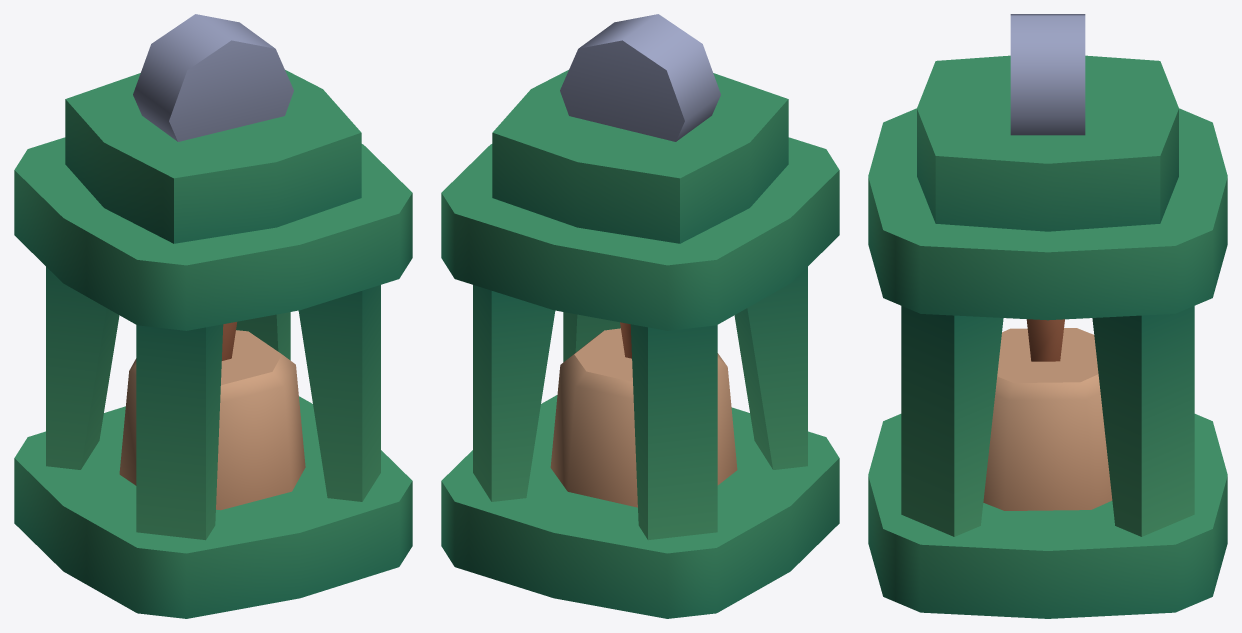
Rendered from K_lantern-candle.glb.
3 renders of one model, left to right at view 1: azimuth 30°, elevation 25°; view 2: azimuth 150°, elevation 25°; view 3: azimuth 270°, elevation 25°, orthographic. The views are drawn at different scales.
Parts seen in each view (by area): view 1: lantern-candle; view 2: lantern-candle; view 3: lantern-candle.
Boxes of the visible parts, bbox=[...] form: lantern-candle: bbox=[14, 14, 412, 618]; lantern-candle: bbox=[441, 14, 839, 618]; lantern-candle: bbox=[868, 14, 1227, 618].
Size of the model in its own units: 0.24 by 0.3877 by 0.24.
